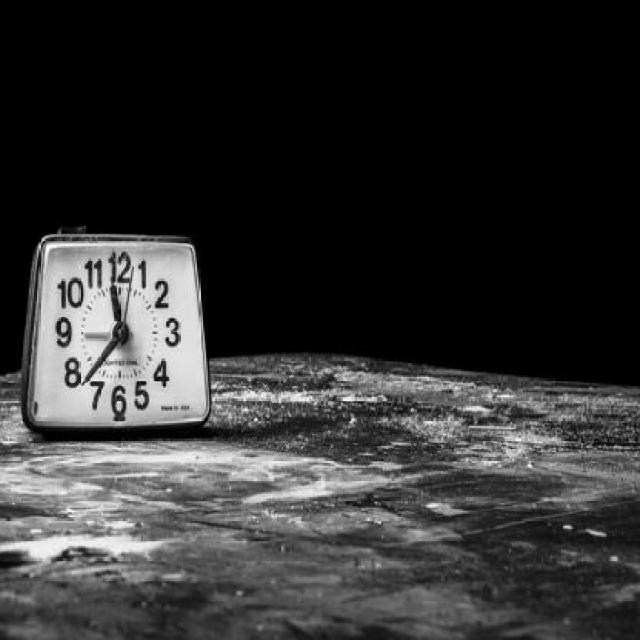clock: (40, 246, 199, 424)
